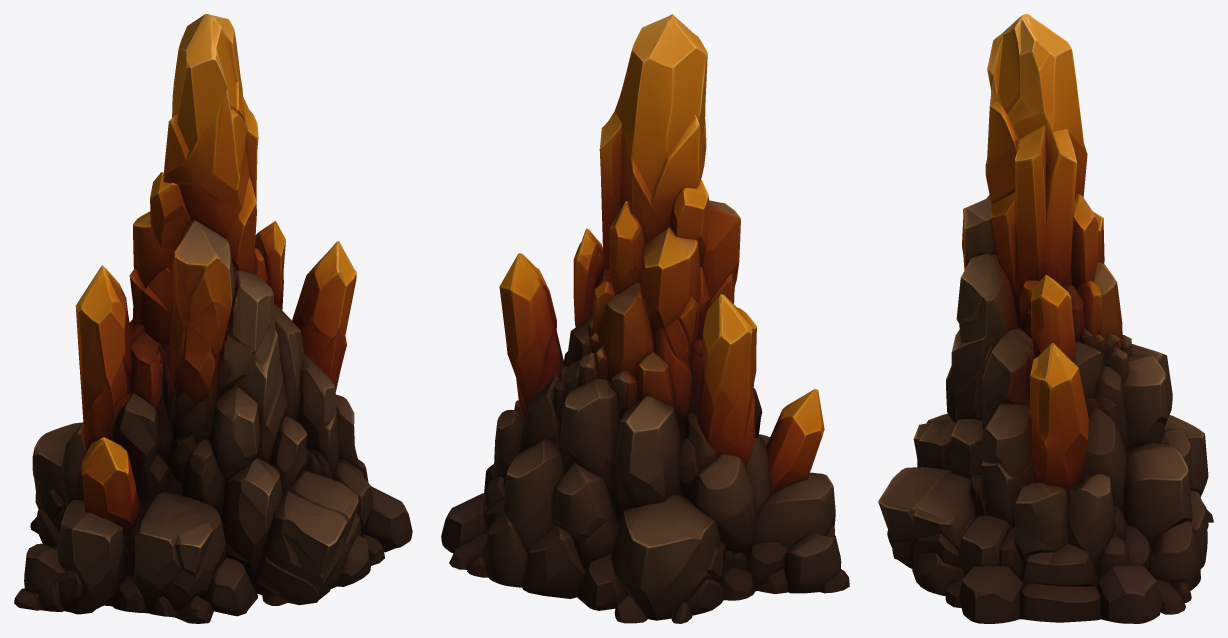
File: SM_Ore15.fbx
3 renders of one model, left to right at view 1: azimuth 30°, elevation 25°; view 2: azimuth 150°, elevation 25°; view 3: azimuth 270°, elevation 25°, orthographic. The views are drawn at different scales.
Visible parts, largest first — view 1: Ore15; view 2: Ore15; view 3: Ore15.
Part boxes in pixels (x1=…): Ore15: x1=14, y1=14, x2=412, y2=623; Ore15: x1=441, y1=14, x2=849, y2=623; Ore15: x1=878, y1=14, x2=1213, y2=623.
Bounding box in the file's own units: 208 × 298 × 172.
1 material, 1 textured.
